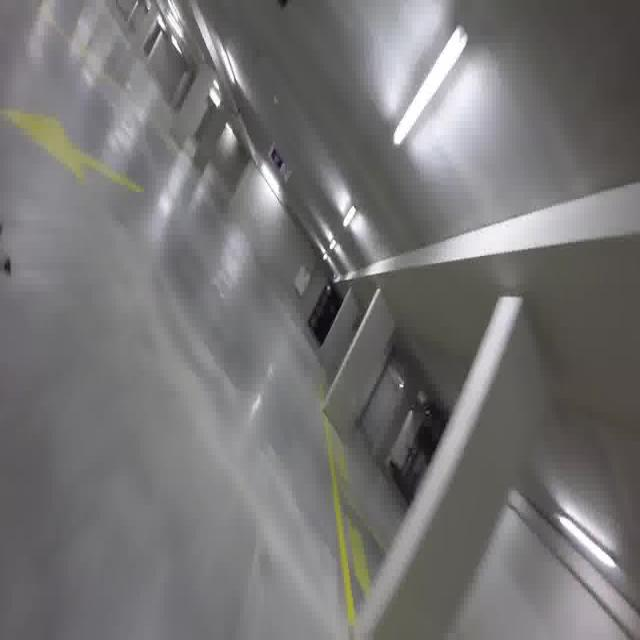drones: (0, 194, 18, 300)
